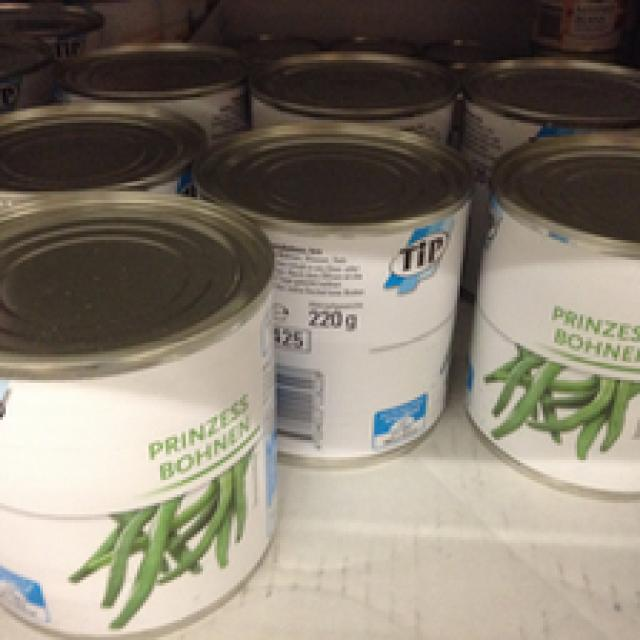groceries: (0, 197, 280, 614), (472, 123, 637, 500)
